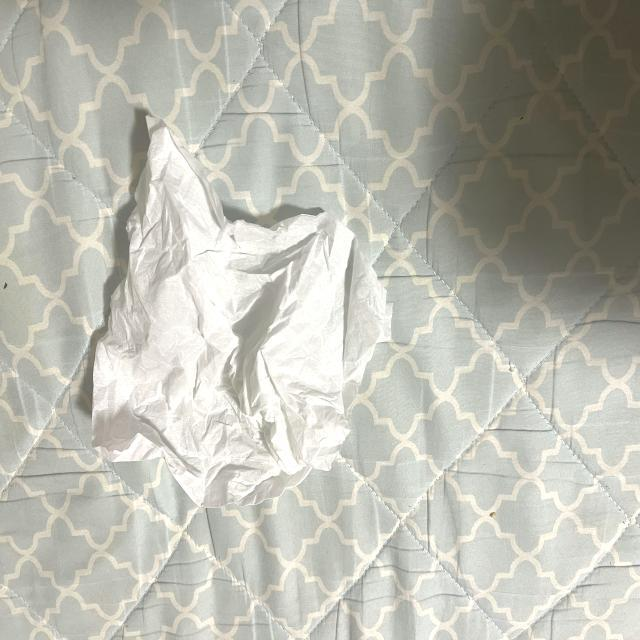Paper: (100, 102, 375, 506)
